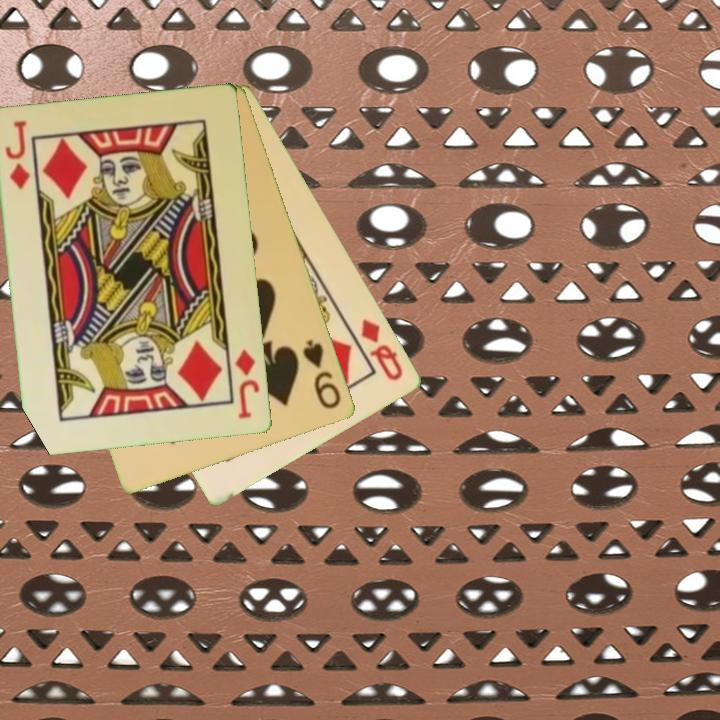9s: (300, 336, 345, 412)
Jd: (231, 346, 263, 422), (2, 117, 34, 193)
Qd: (357, 315, 407, 384)
